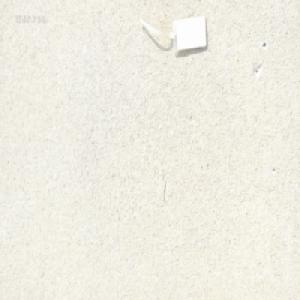LuggageTag: (135, 11, 208, 57)
